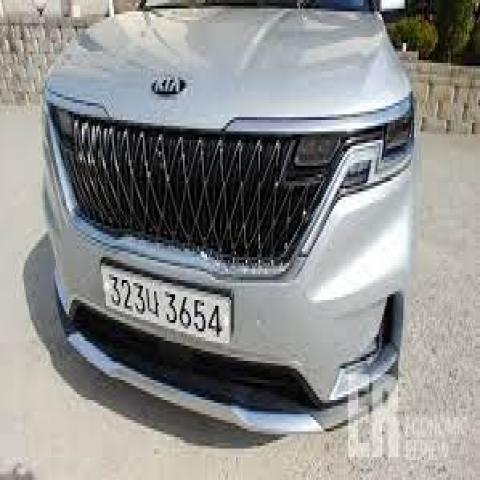LP: (92, 245, 238, 351)
